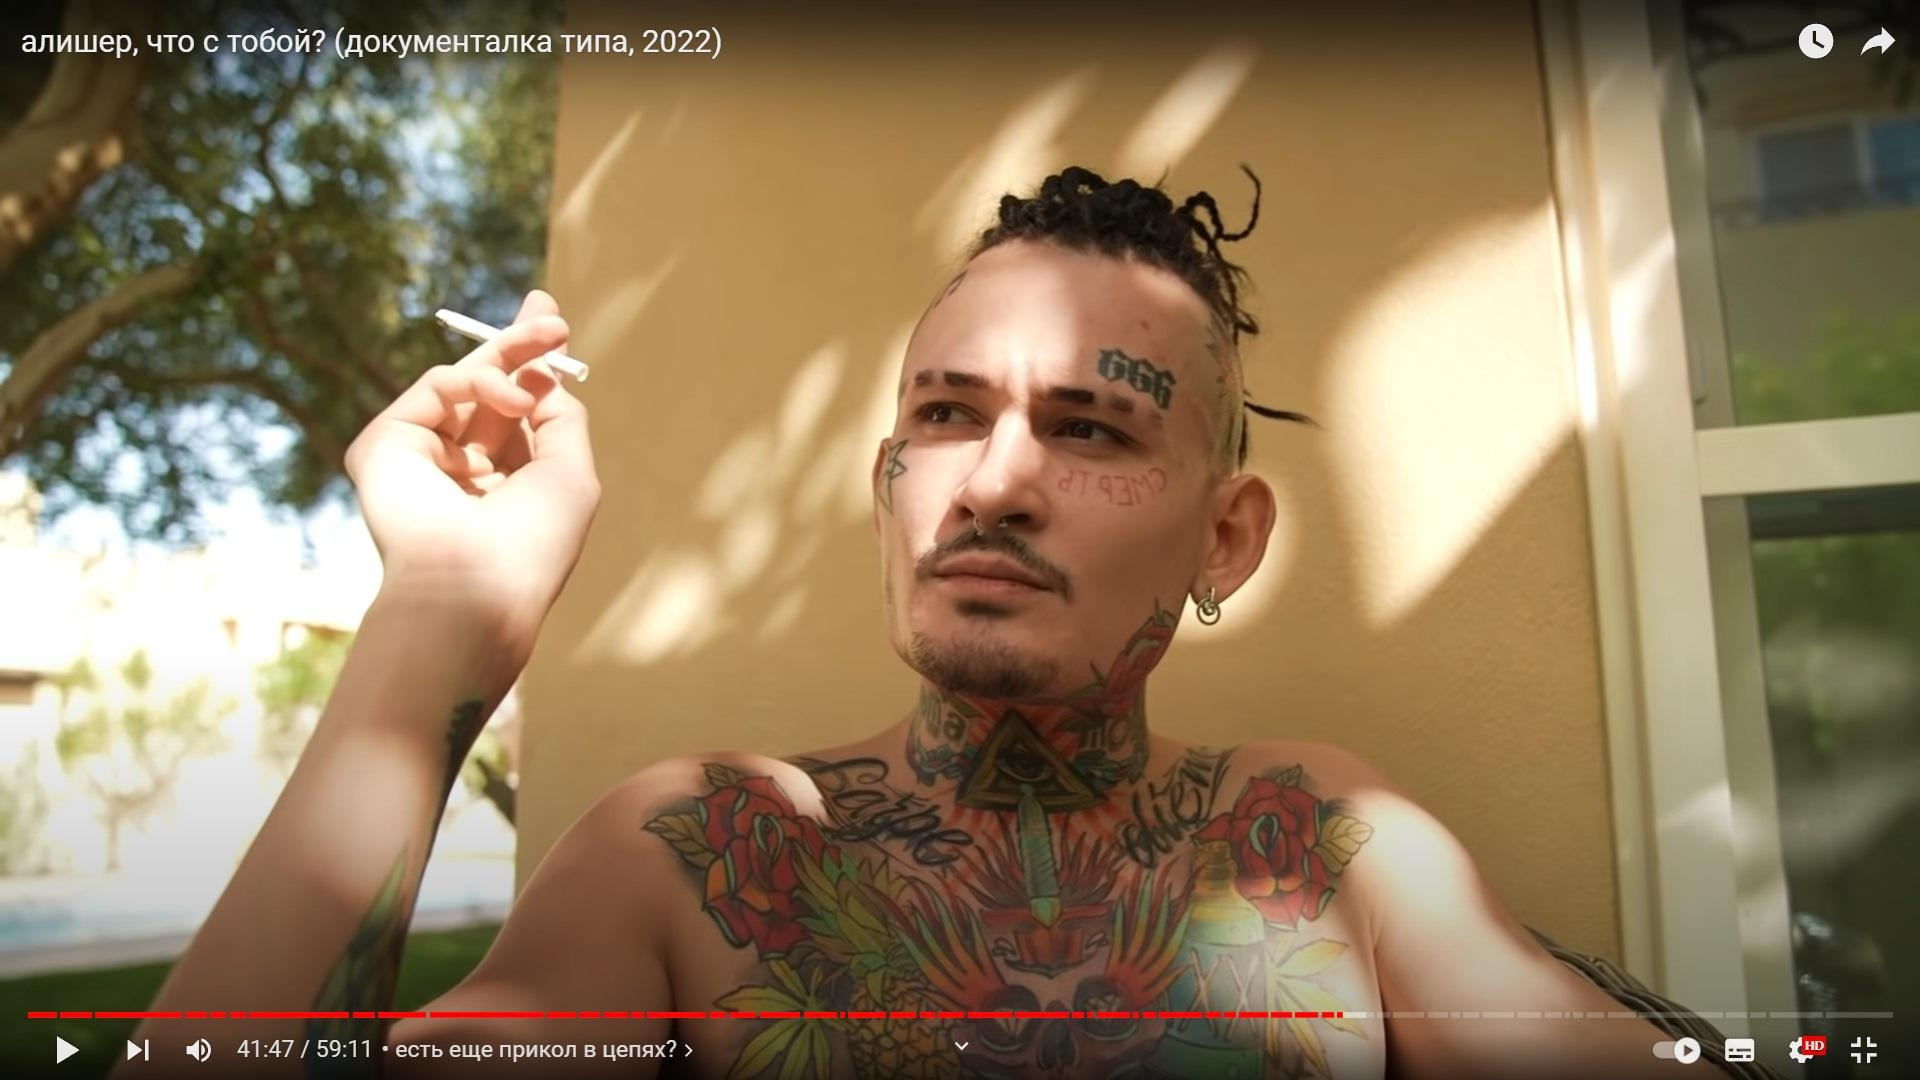cigarette: (434, 309, 589, 381)
